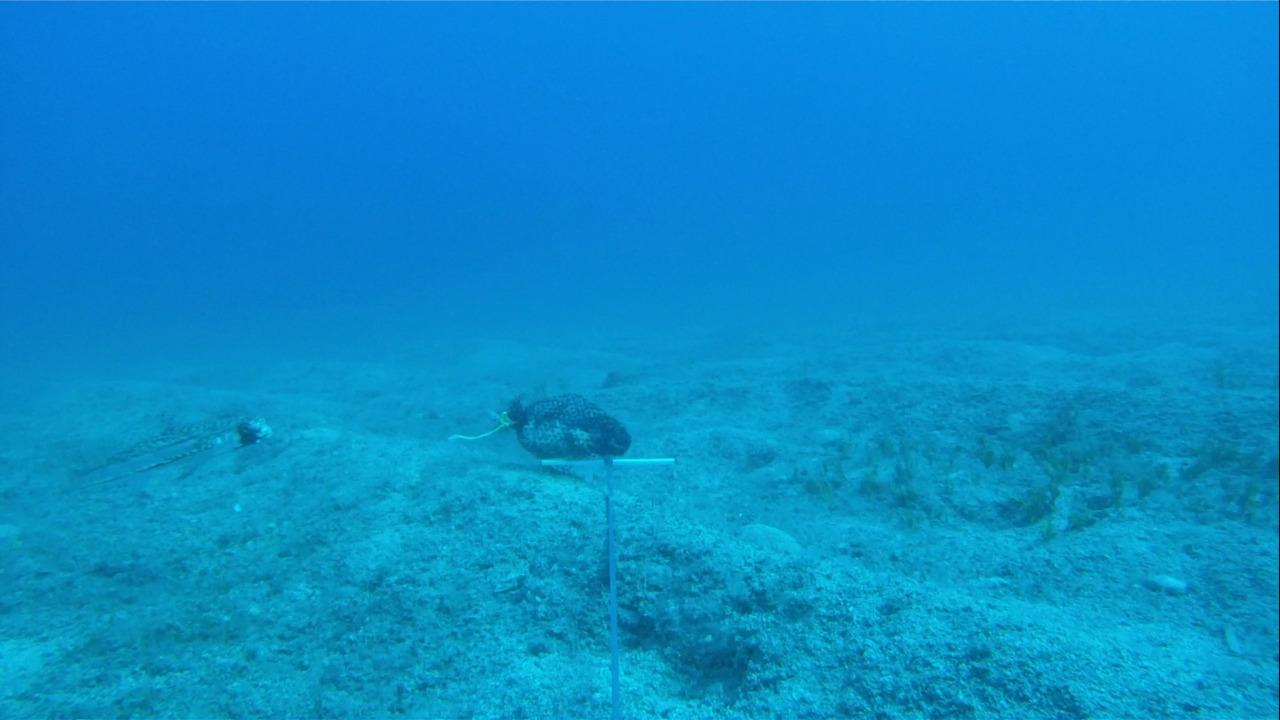dactylopterus: (35, 400, 276, 495)
